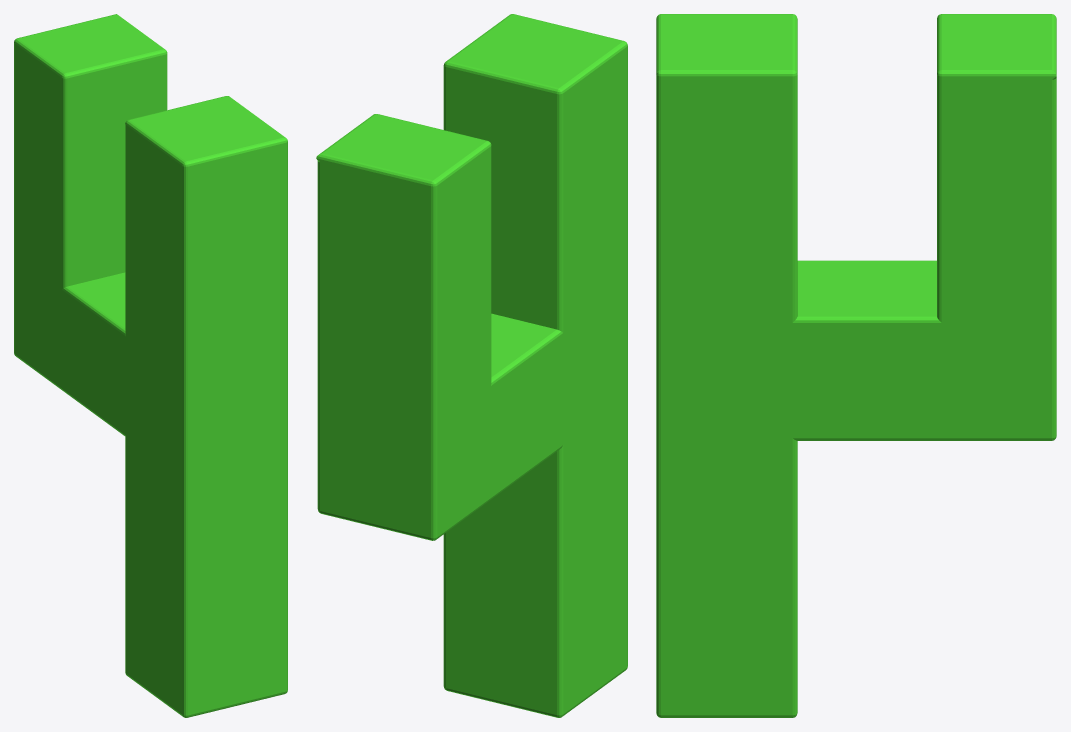
The model's file is numero4.fbx.
3 renders of one model, left to right at view 1: azimuth 30°, elevation 25°; view 2: azimuth 150°, elevation 25°; view 3: azimuth 270°, elevation 25°, orthographic. The views are drawn at different scales.
Visible parts, largest first — view 1: Cube; view 2: Cube; view 3: Cube.
Boxes of the visible parts, left/top/right/bottom form: Cube: left=14, top=14, right=287, bottom=717; Cube: left=316, top=14, right=627, bottom=717; Cube: left=656, top=14, right=1056, bottom=717.
Bounding box in the file's own units: 200 × 1012 × 567.
